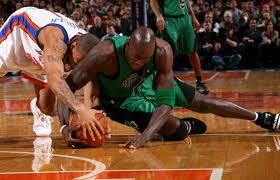10+: (2, 1, 279, 96)
down: (98, 26, 280, 150), (1, 1, 112, 142)
